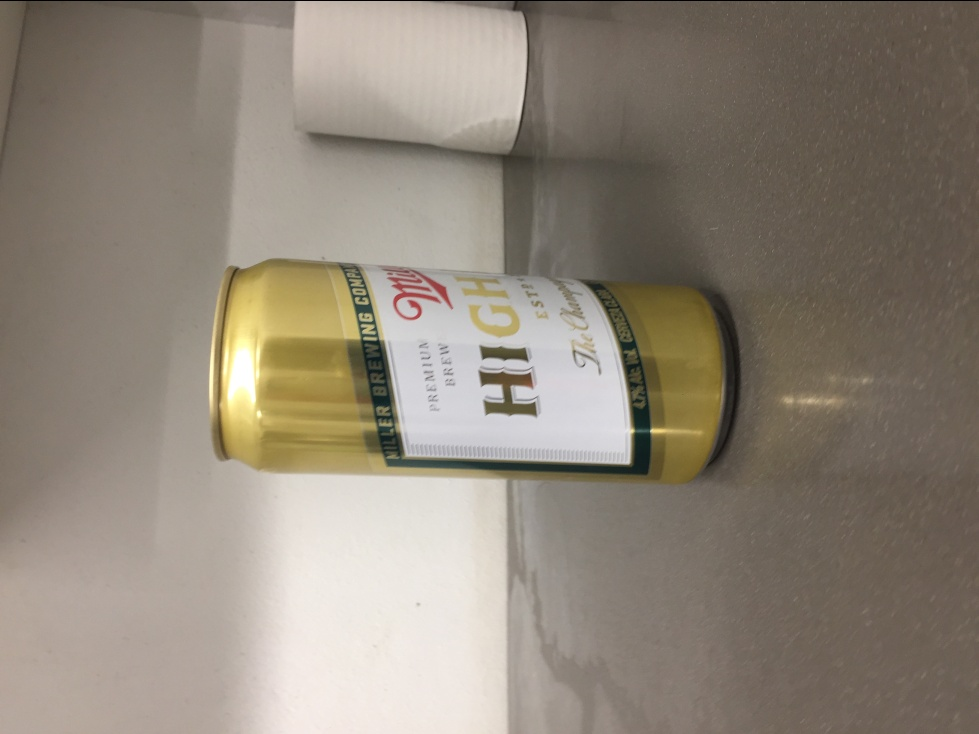miller: (206, 254, 739, 489)
